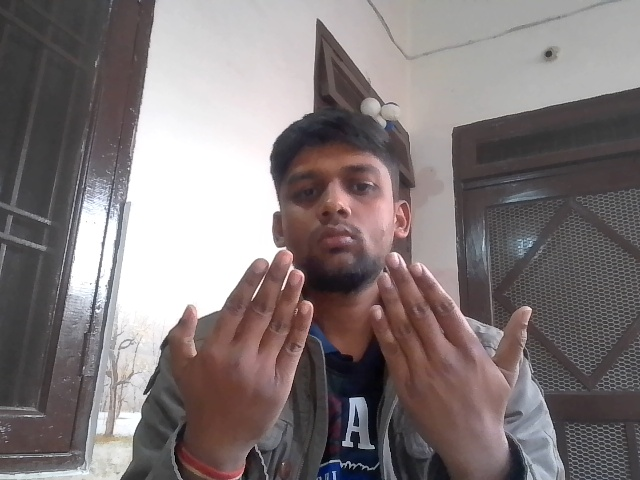ThankYou: (145, 246, 537, 457)
